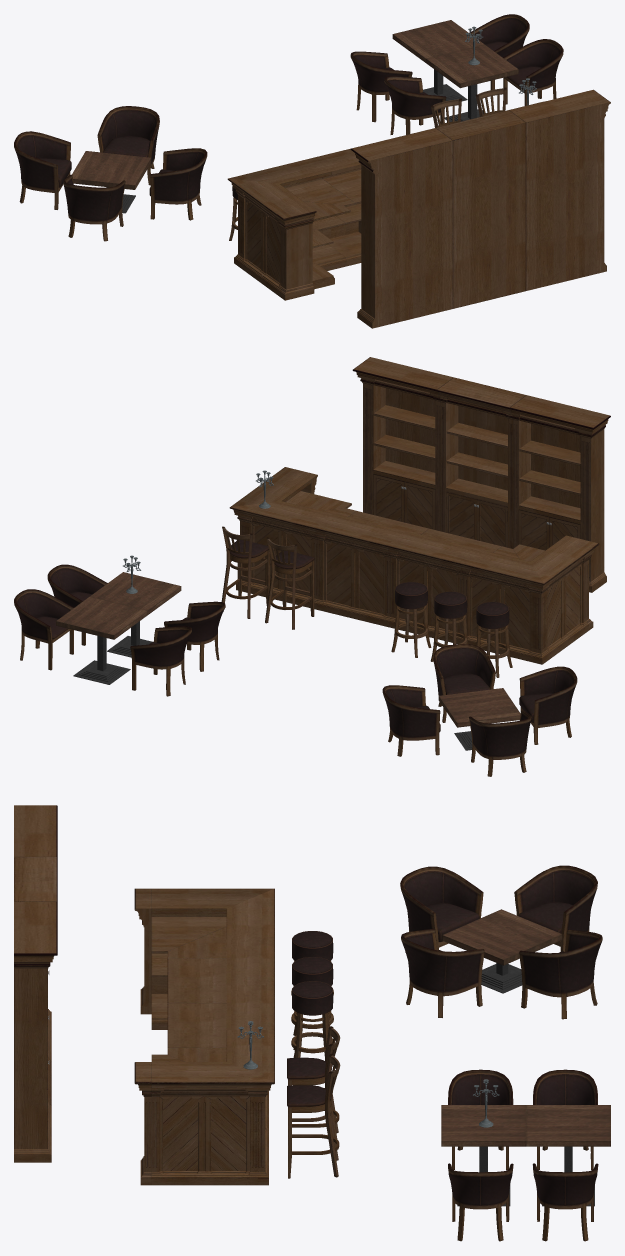
3 renders of one model, top to bottom at view 1: azimuth 30°, elevation 25°; view 2: azimuth 150°, elevation 25°; view 3: azimuth 270°, elevation 25°, orthographic. The views are drawn at different scales.
Parts seen in each view (by area): view 1: re_shelf_side_R_7, re_shelf_side_L_3, re_shelf_center_6, re_bar_side_L (1)_17, re_bar_side_R_9, re_bar_center_11, re_arm (3)_24, re_tb_01_15, re_arm (2)_19, re_bar_end_R_10, re_arm_20, re_tb_01 (1)_29 (+8 smaller); view 2: re_shelf_side_R_7, re_shelf_side_L_3, re_shelf_center_6, re_bar_center (1)_16, re_bar_side_R_9, re_bar_center_11, re_bar_side_L (1)_17, re_bar_side_L_8, re_tb_01 (1)_29, re_arm (1)_28, re_arm_20, re_arm (2)_19 (+13 smaller); view 3: re_bar_side_R (1)_2, re_shelf_side_L_3, re_bar_side_L (1)_17, re_bar_center (1)_16, re_bar_center_11, re_tb_02_1, re_arm (1)_28, re_arm (3)_24, re_arm (2)_19, re_arm_20, re_tb_01 (1)_29, re_tb_01_15 (+15 smaller).
Boxes of the visible parts, left/top/right/bottom form: re_shelf_side_R_7: left=350, top=128, right=452, bottom=328; re_shelf_side_L_3: left=509, top=89, right=610, bottom=290; re_shelf_center_6: left=436, top=110, right=525, bottom=308; re_bar_side_L (1)_17: left=227, top=178, right=350, bottom=296; re_bar_side_R_9: left=229, top=158, right=355, bottom=270; re_bar_center_11: left=313, top=140, right=386, bottom=266; re_arm (3)_24: left=14, top=131, right=71, bottom=209; re_tb_01_15: left=426, top=44, right=518, bottom=121; re_arm (2)_19: left=97, top=106, right=159, bottom=185; re_bar_end_R_10: left=276, top=206, right=316, bottom=300; re_arm_20: left=149, top=148, right=207, bottom=220; re_tb_01 (1)_29: left=392, top=20, right=484, bottom=101; re_shelf_side_R_7: left=509, top=395, right=610, bottom=592; re_shelf_side_L_3: left=352, top=357, right=453, bottom=531; re_shelf_center_6: left=436, top=377, right=526, bottom=548; re_bar_center (1)_16: left=314, top=511, right=428, bottom=627; re_bar_side_R_9: left=459, top=546, right=543, bottom=664; re_bar_center_11: left=387, top=528, right=501, bottom=643; re_bar_side_L (1)_17: left=513, top=540, right=592, bottom=664; re_bar_side_L_8: left=229, top=501, right=356, bottom=609; re_tb_01 (1)_29: left=56, top=596, right=147, bottom=684; re_arm (1)_28: left=519, top=666, right=577, bottom=744; re_arm_20: left=433, top=644, right=495, bottom=722; re_arm (2)_19: left=382, top=685, right=440, bottom=756; re_bar_side_R (1)_2: left=151, top=1054, right=274, bottom=1185; re_shelf_side_L_3: left=14, top=901, right=57, bottom=1162; re_bar_side_L (1)_17: left=151, top=888, right=273, bottom=1029; re_bar_center (1)_16: left=167, top=985, right=274, bottom=1128; re_bar_center_11: left=167, top=940, right=274, bottom=1002; re_tb_02_1: left=442, top=909, right=562, bottom=993; re_arm (1)_28: left=400, top=866, right=483, bottom=952; re_arm (3)_24: left=514, top=865, right=597, bottom=951; re_arm (2)_19: left=519, top=930, right=602, bottom=1019; re_arm_20: left=401, top=928, right=484, bottom=1017; re_tb_01 (1)_29: left=526, top=1105, right=610, bottom=1206; re_tb_01_15: left=441, top=1105, right=525, bottom=1206.
Bounding box in the file's own units: 6.98 × 2.2 × 5.63.
12 materials, 12 textured.
